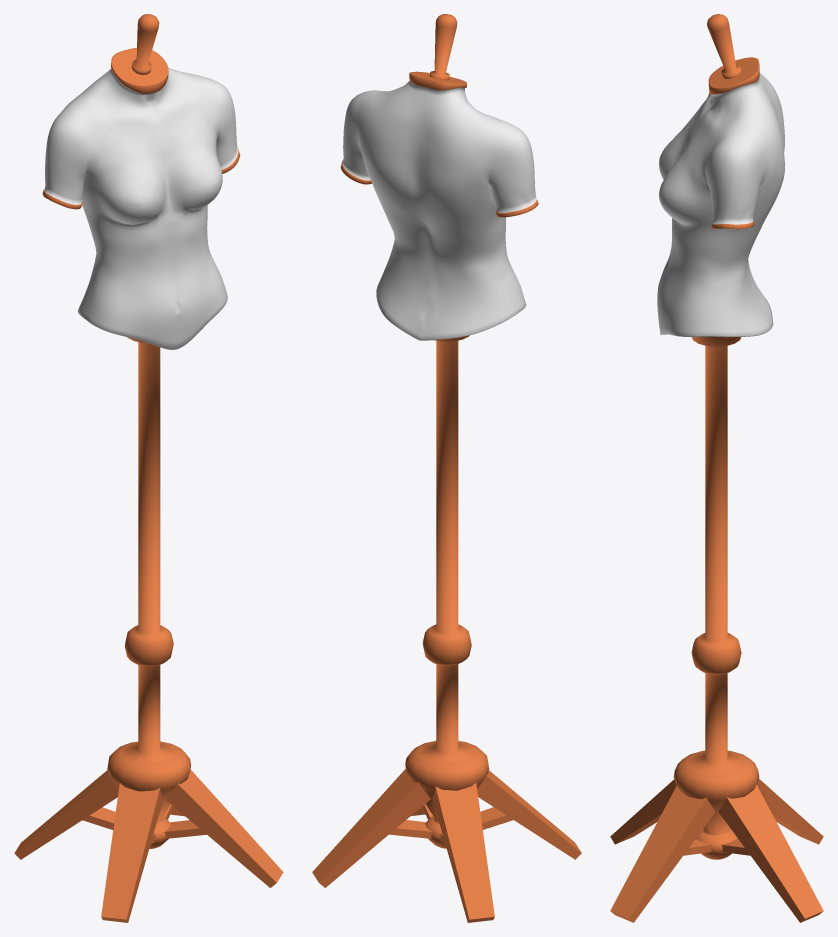
The model's file is manequin1.fbx.
3 renders of one model, left to right at view 1: azimuth 30°, elevation 25°; view 2: azimuth 150°, elevation 25°; view 3: azimuth 270°, elevation 25°, orthographic.
Visible parts, largest first — view 1: Cylinder; view 2: Cylinder; view 3: Cylinder.
Boxes of the visible parts, box(x1,y1,x2,y2) form: Cylinder: box(14, 14, 283, 922); Cylinder: box(312, 14, 581, 922); Cylinder: box(610, 14, 823, 922).
Bounding box in the file's own units: 41.7 × 177 × 39.64.
